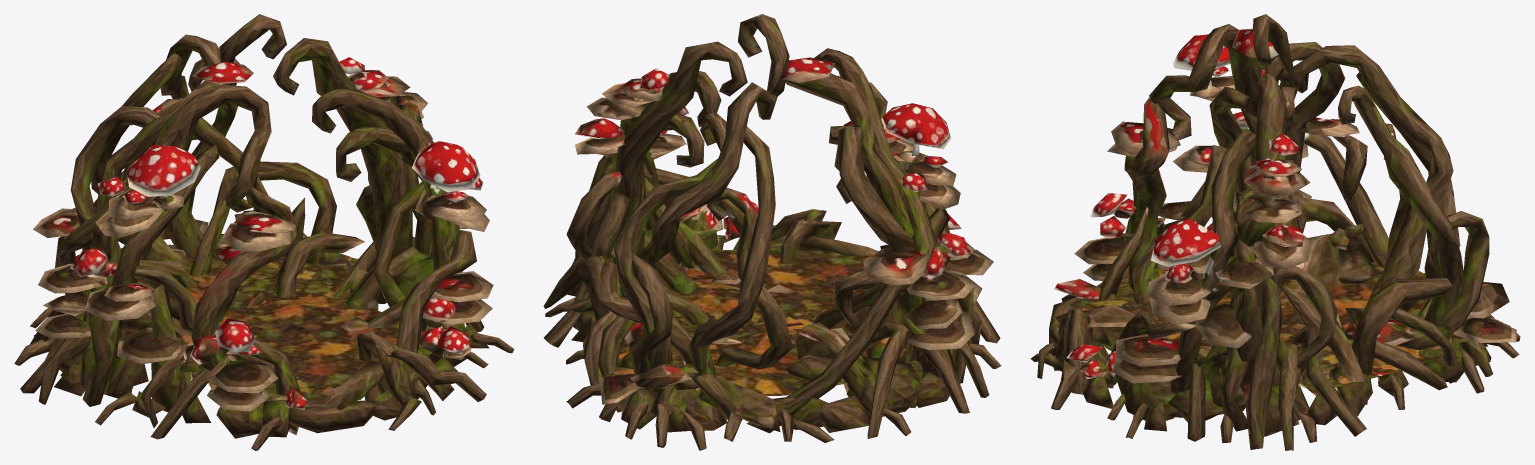
The model's file is cage-1.glb.
The picture shows the model from 3 angles, left to right: view 1: azimuth 30°, elevation 25°; view 2: azimuth 150°, elevation 25°; view 3: azimuth 270°, elevation 25°; orthographic projection.
Bounding box in the file's own units: 2 × 1.56 × 1.97.
1 material, 1 textured.
